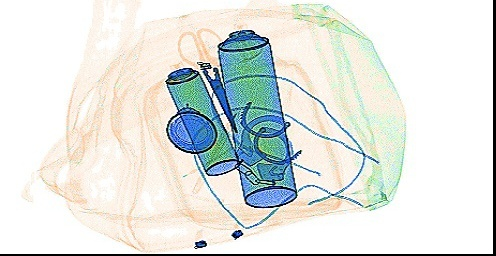handcuffs: (229, 97, 304, 186)
pressure: (214, 19, 298, 208), (164, 57, 240, 176)
scissors: (174, 24, 237, 133)
